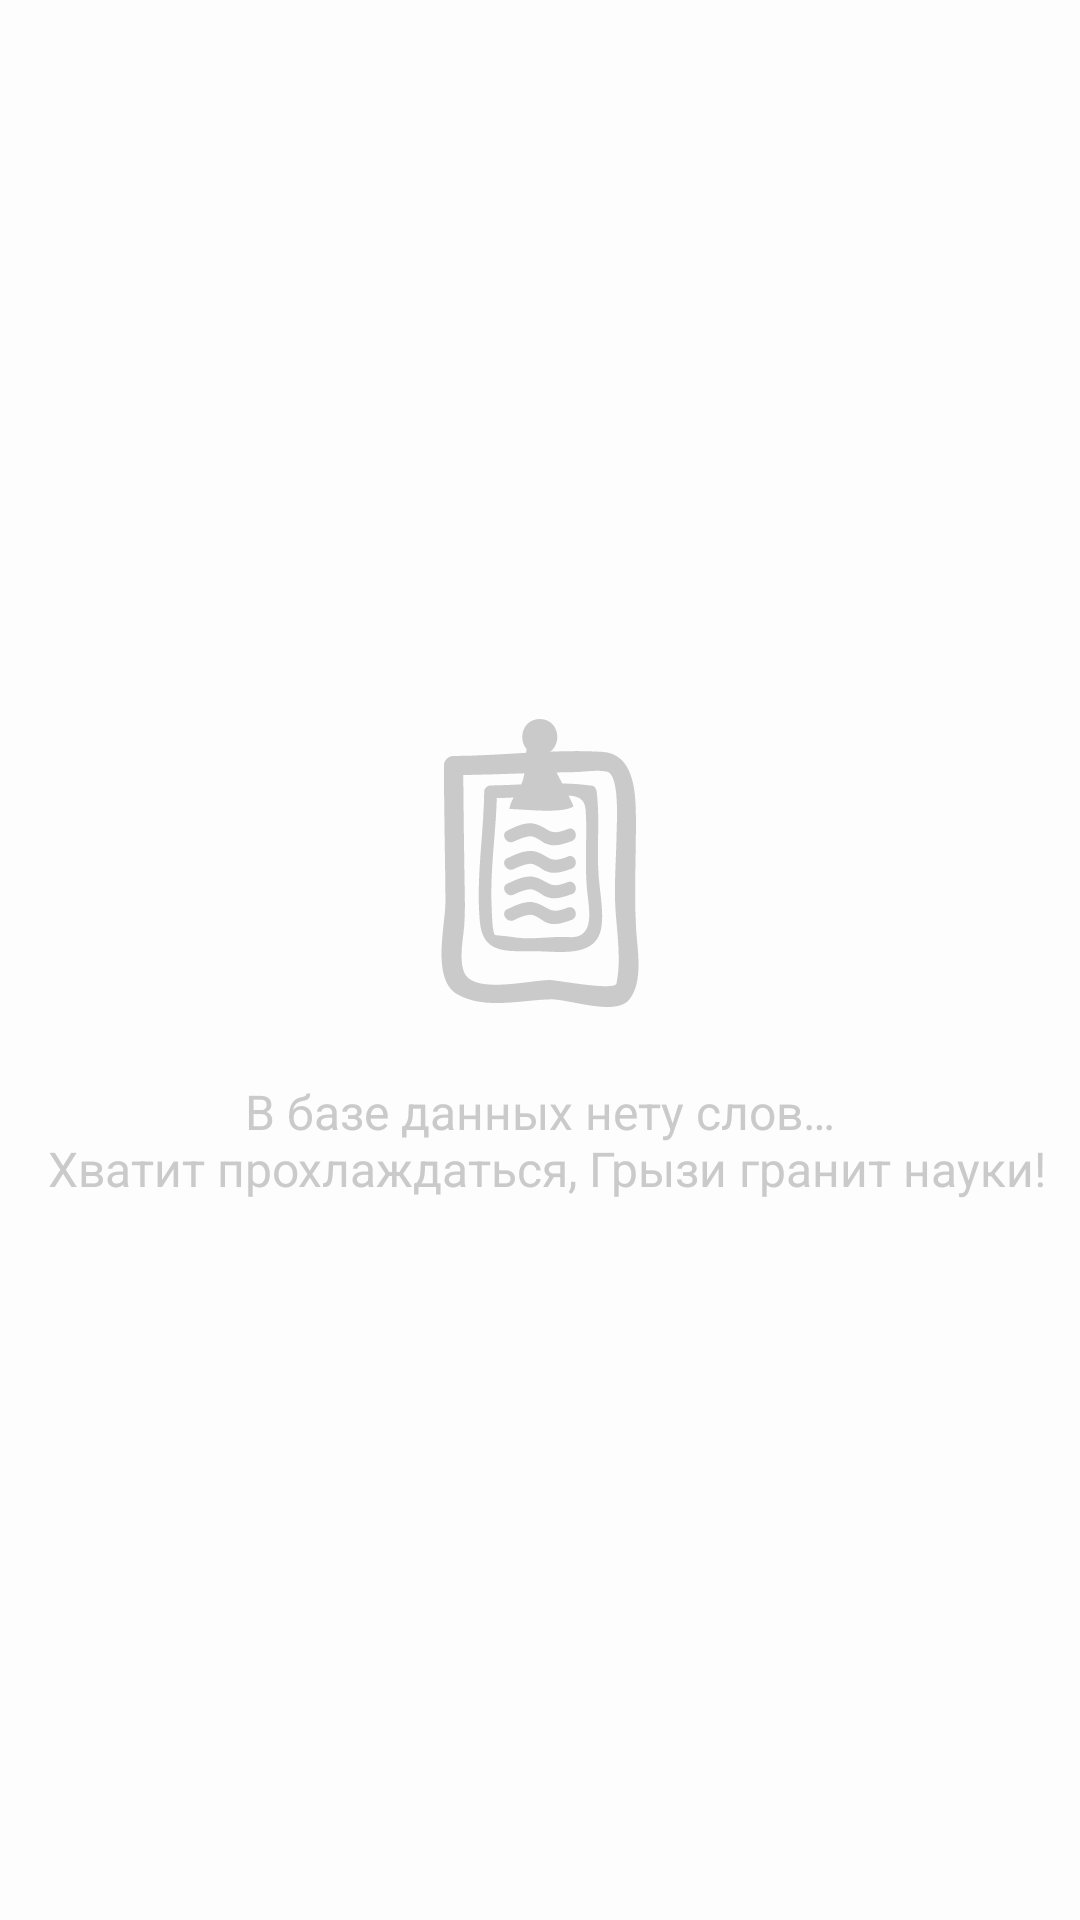

Icon click points for this 1080×1920 phone screenshot, format (x,y):
dictionary error: (540,863)
